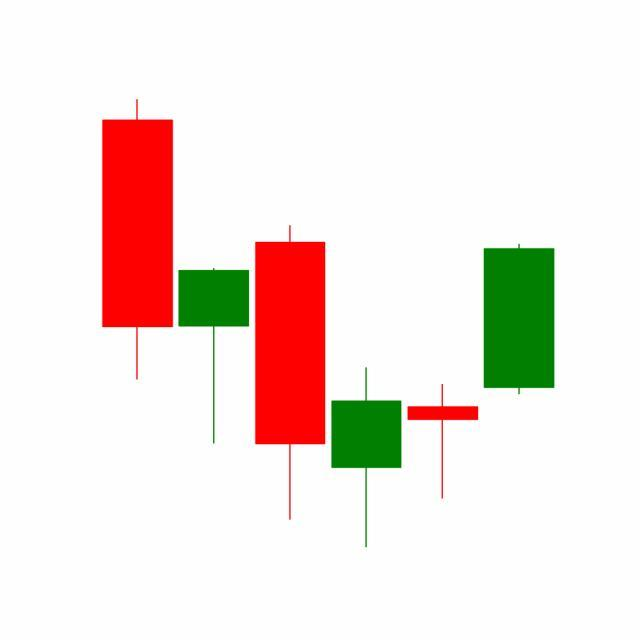Hikkake Pattern: (175, 221, 555, 549)
